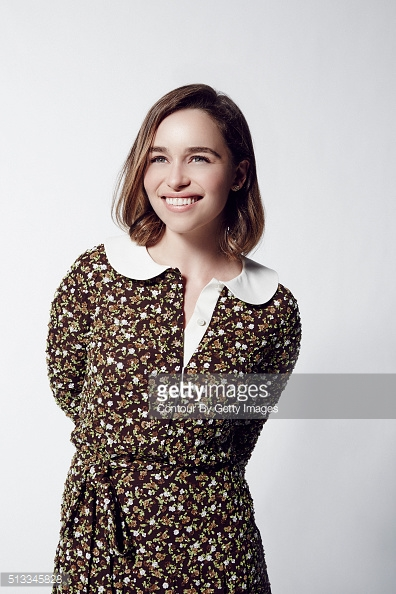em pe: (14, 77, 307, 594)
